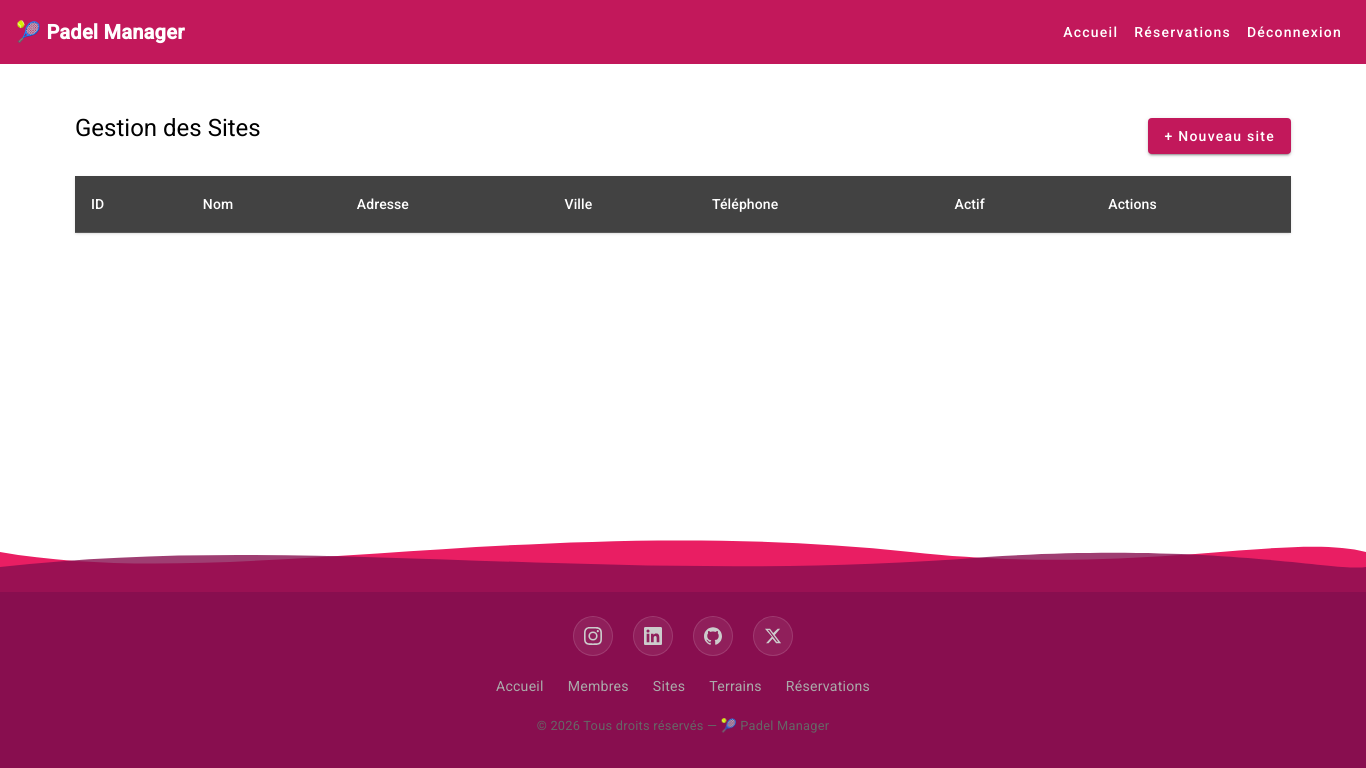
Test case: Gestion des Sites › should open dialog when clicking nouveau site
The width and height of the screenshot is (1366, 768).
Click the button "+ Nouveau site" at coordinates (1221, 136), box 1149,118 -> 1292,154
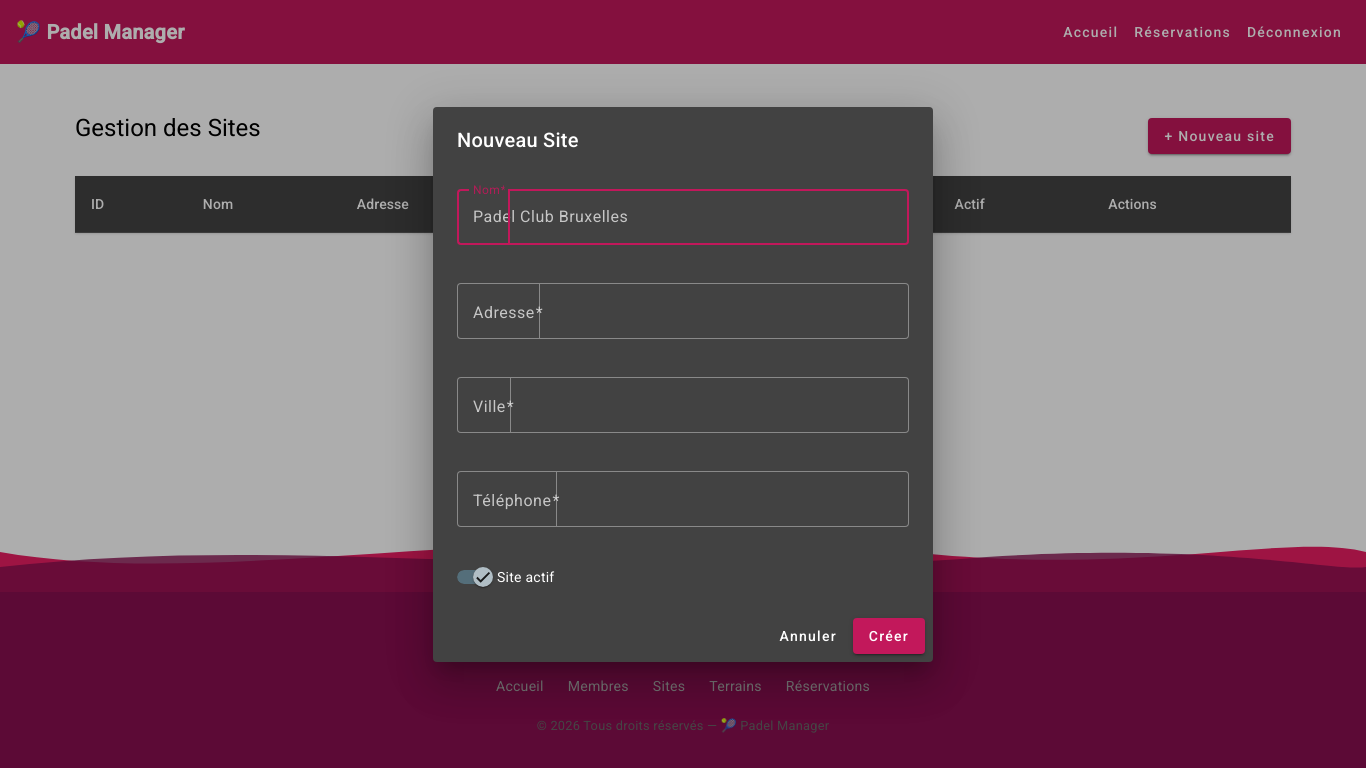
Result: the heading "Nouveau Site" is shown at 457,128 -> 579,152
